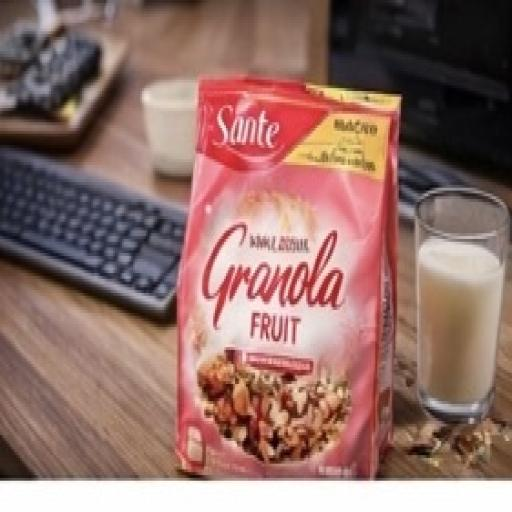granola: (152, 45, 426, 481)
